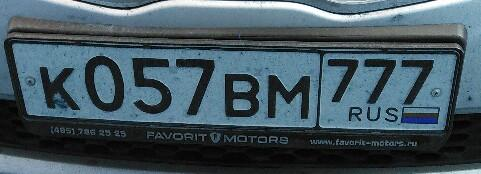license-plateSW: (11, 42, 467, 130)
